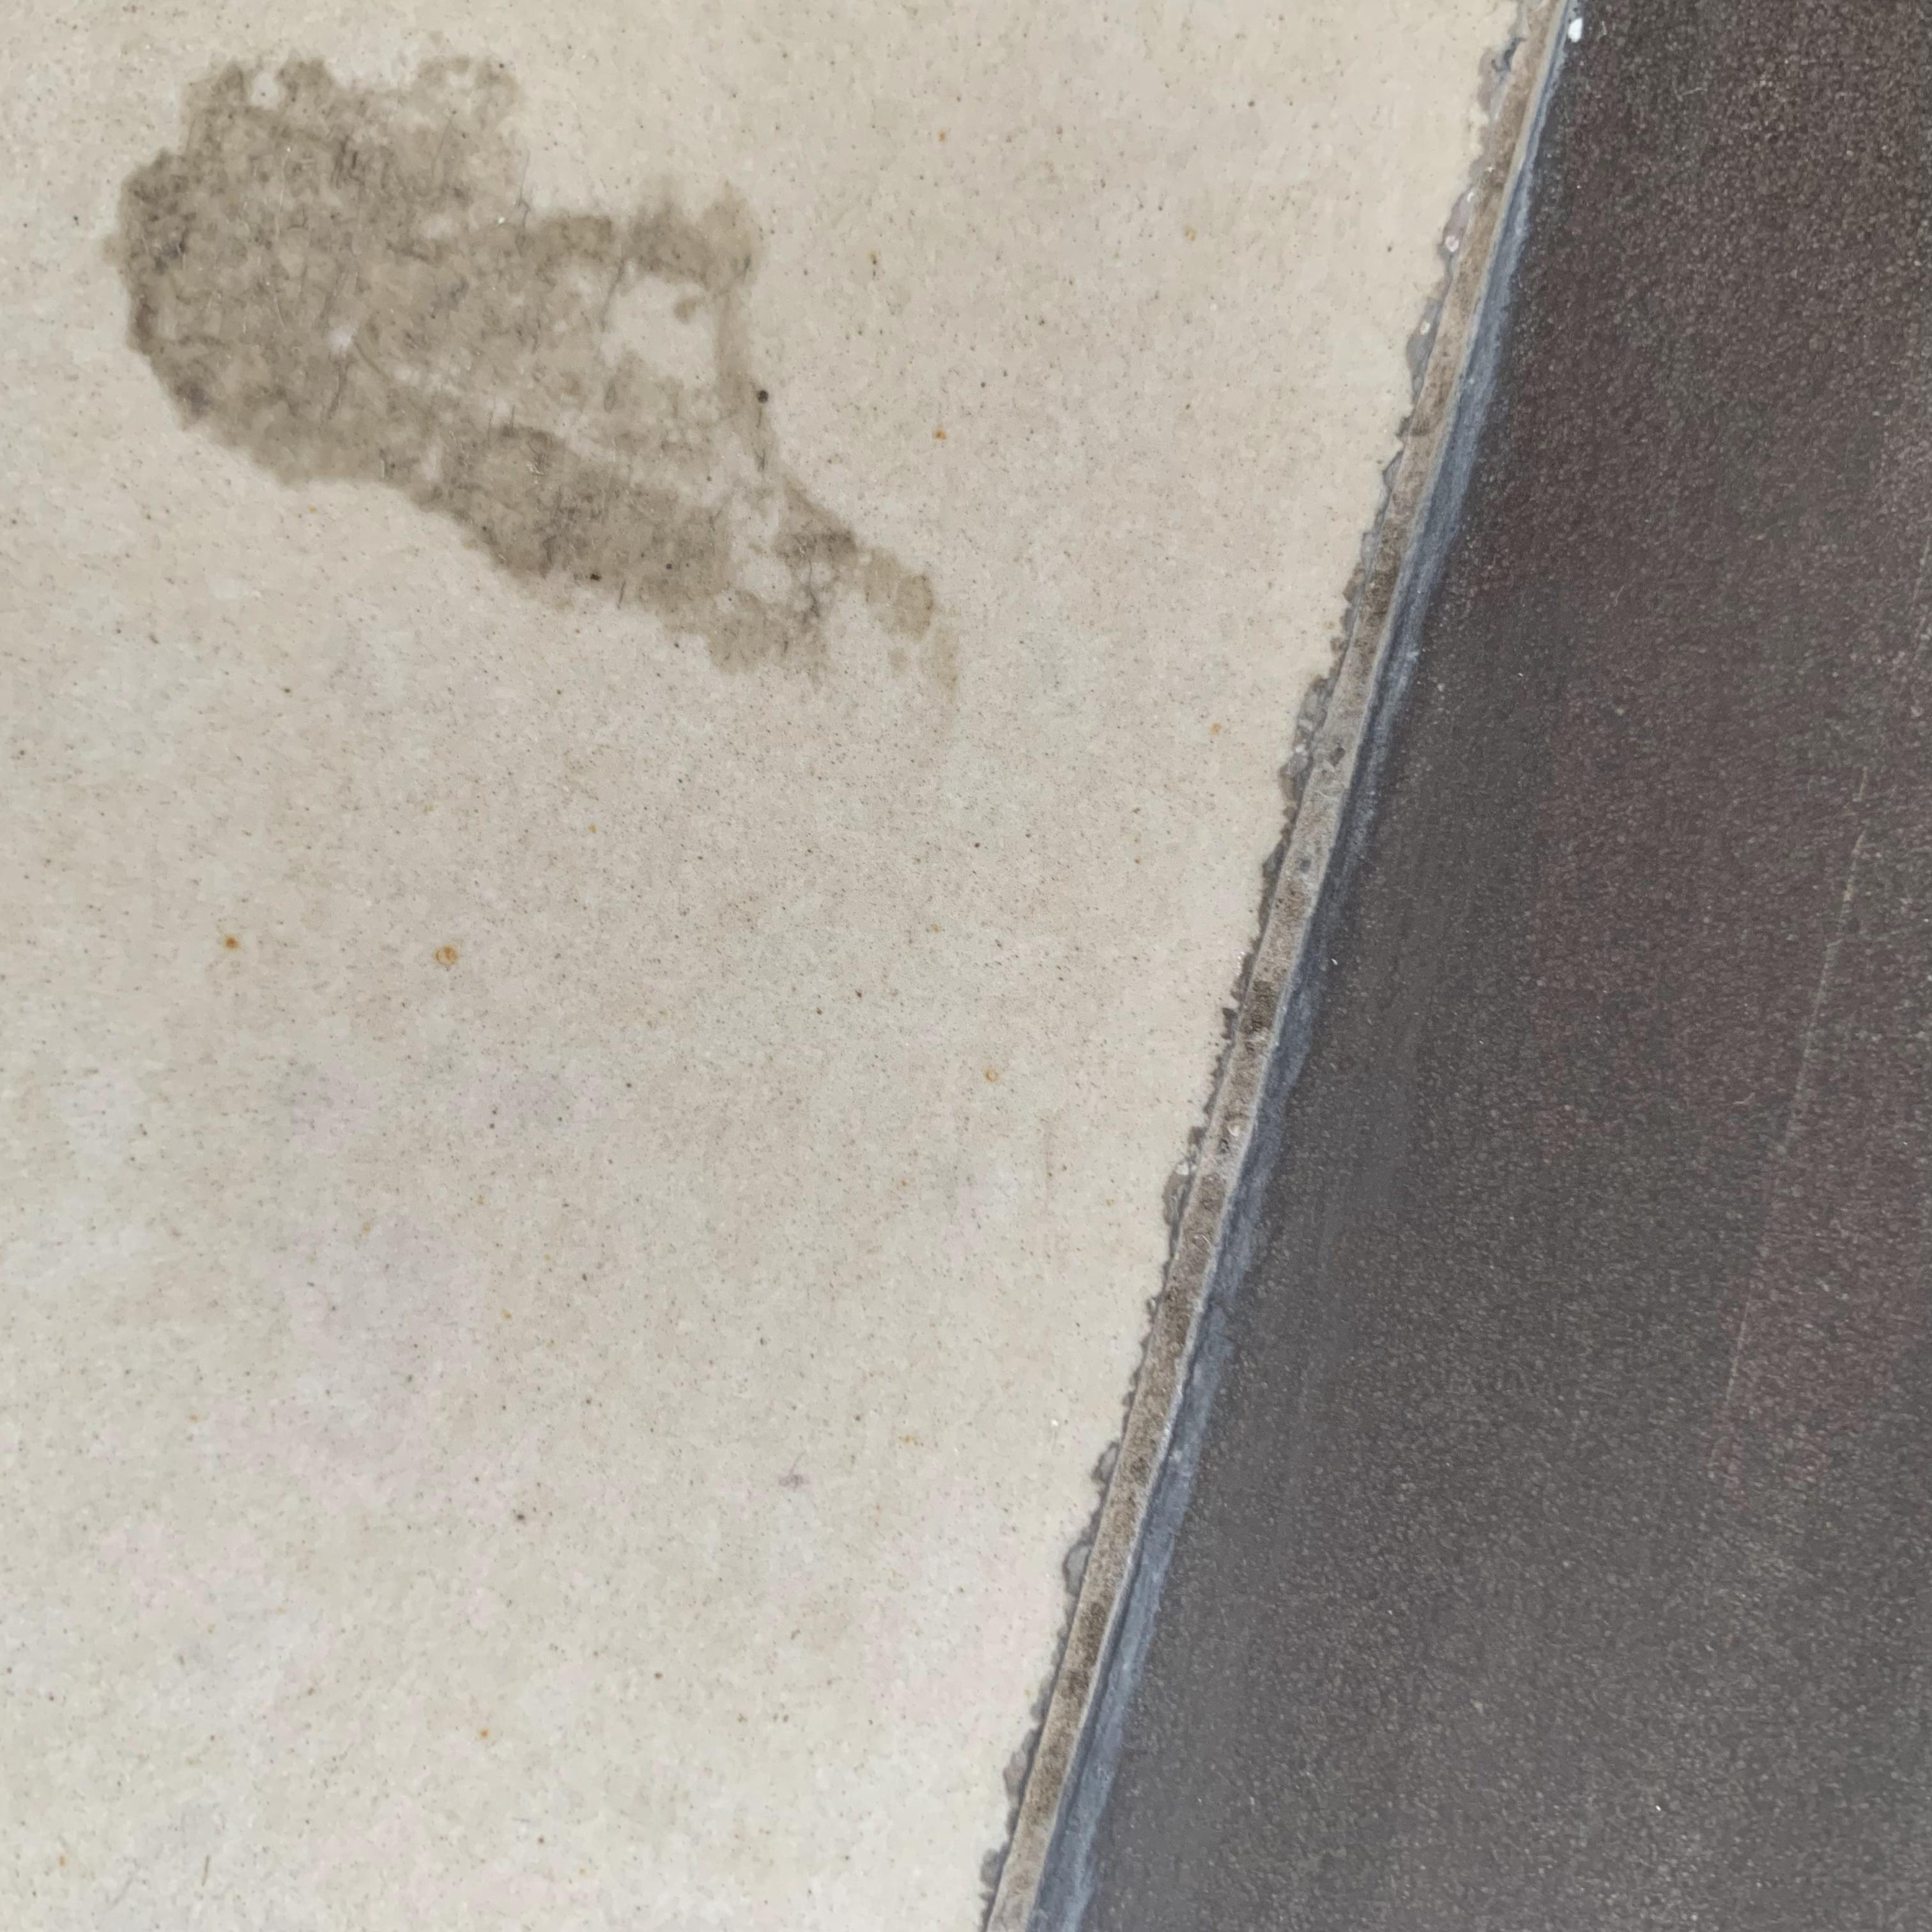grey spot: (97, 53, 964, 688)
